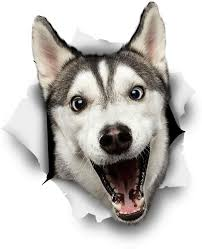Siberian Husky: (35, 12, 197, 221)
